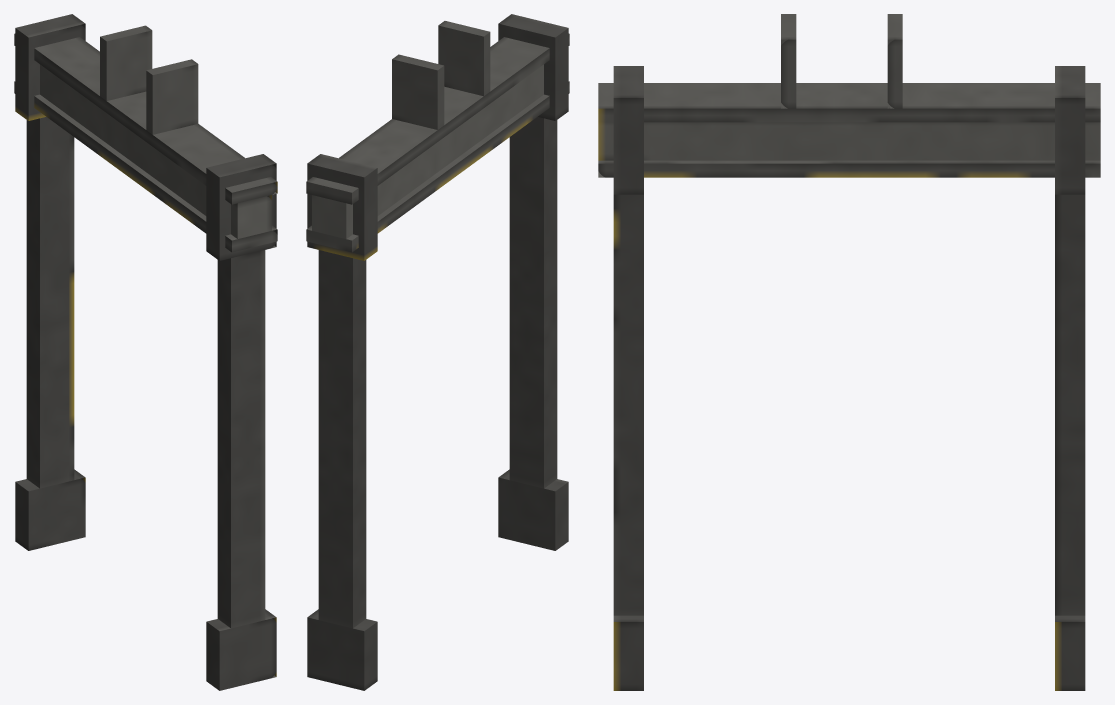
The model's file is pumpjack_connector.obj.
3 renders of one model, left to right at view 1: azimuth 30°, elevation 25°; view 2: azimuth 150°, elevation 25°; view 3: azimuth 270°, elevation 25°, orthographic. The views are drawn at different scales.
Visible parts, largest first — view 1: cube; view 2: cube; view 3: cube.
Boxes of the visible parts, x1,y1,x2,y2 form: cube: (14, 14, 277, 690); cube: (306, 14, 569, 690); cube: (598, 14, 1100, 690).
Size of the model in its own units: 0.3125 by 2.94 by 2.06.
1 material, 1 textured.
